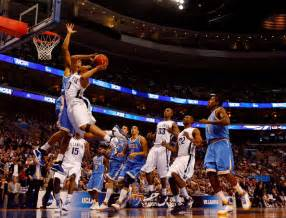basketball: (94, 53, 108, 70)
